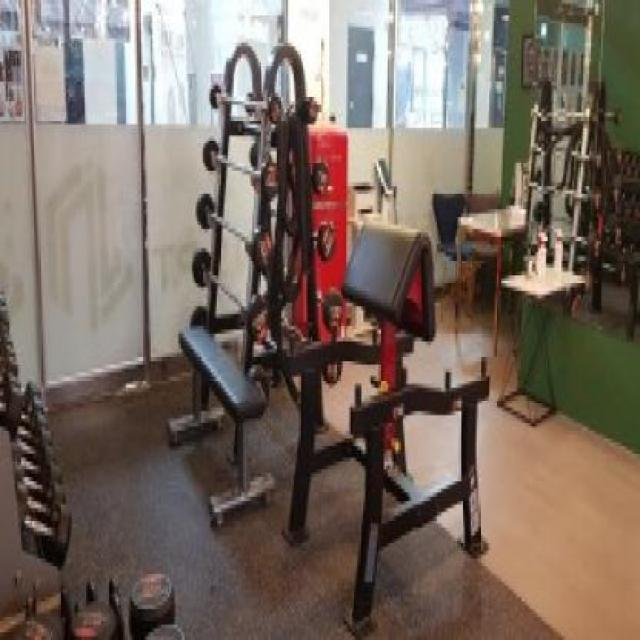arm curl machine: (282, 226, 492, 634)
